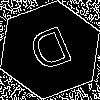D: (25, 25, 79, 81)
